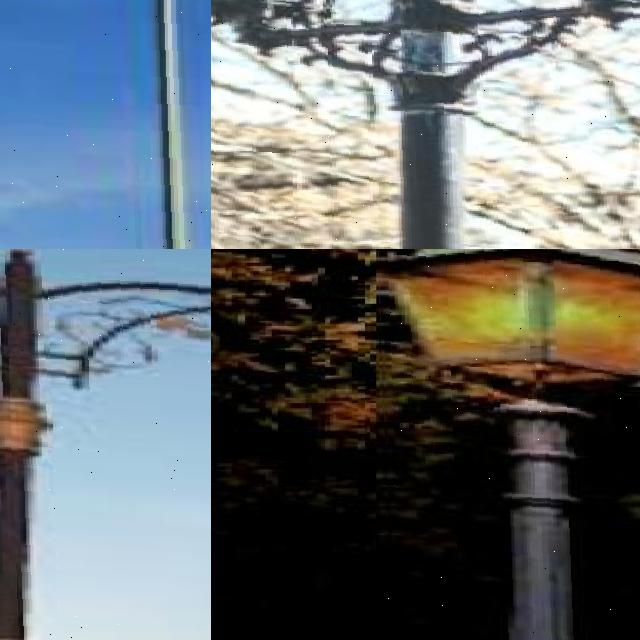street light: (211, 0, 640, 249), (376, 249, 640, 640), (0, 249, 211, 640), (0, 0, 211, 249)
